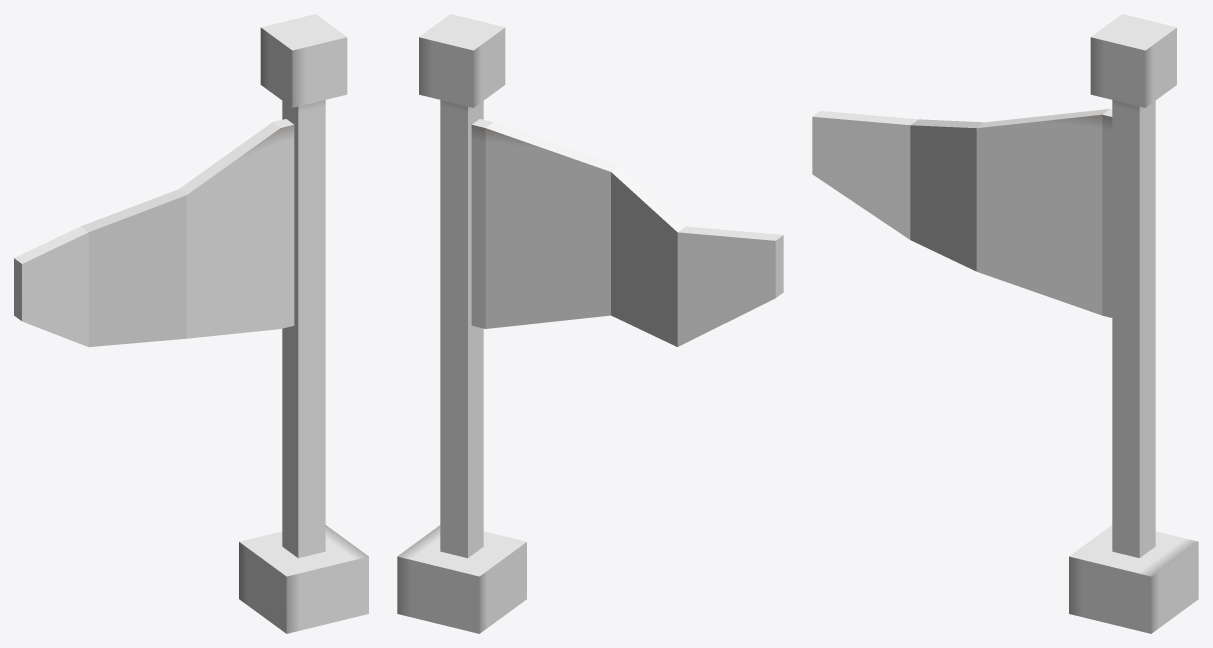
Rendered from Finish.fbx.
3 renders of one model, left to right at view 1: azimuth 30°, elevation 25°; view 2: azimuth 150°, elevation 25°; view 3: azimuth 330°, elevation 25°, orthographic.
Parts seen in each view (by area): view 1: Finish; view 2: Finish; view 3: Finish.
Boxes of the visible parts, left/top/right/bottom form: Finish: left=14, top=14, right=368, bottom=633; Finish: left=397, top=14, right=783, bottom=633; Finish: left=812, top=14, right=1198, bottom=633.
Size of the model in its own units: 12.5 by 20 by 3.
1 material, 1 textured.
